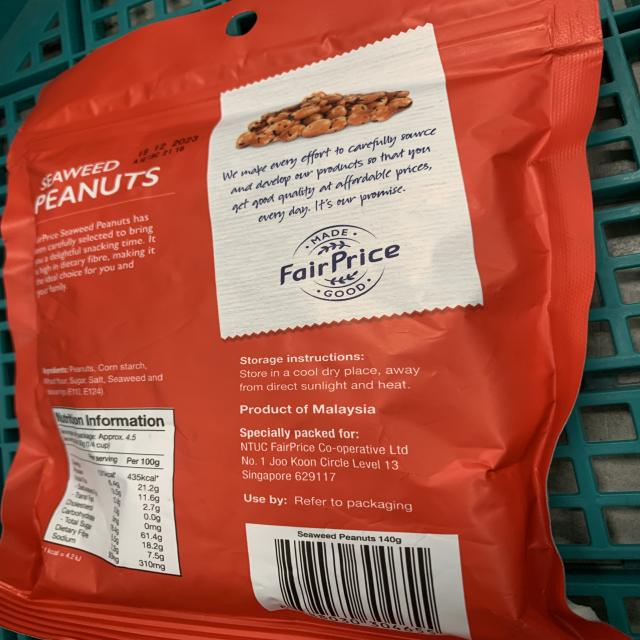object_name: (19, 16, 569, 640)
